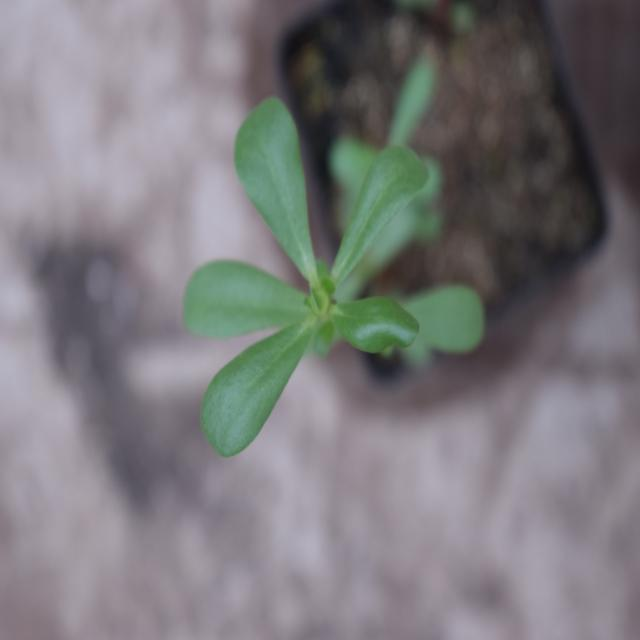purslane: (145, 105, 502, 452)
